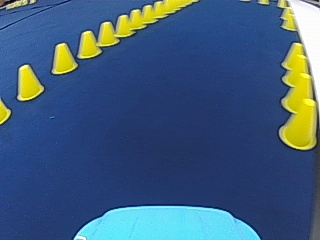cone: (279, 98, 319, 149), (279, 45, 310, 96), (280, 71, 314, 111), (16, 63, 44, 99), (50, 42, 78, 74), (280, 42, 306, 74), (76, 30, 101, 58), (97, 21, 116, 46), (114, 14, 130, 36), (127, 8, 143, 29), (280, 8, 295, 30), (0, 97, 11, 123), (140, 4, 153, 24), (152, 1, 164, 17)
